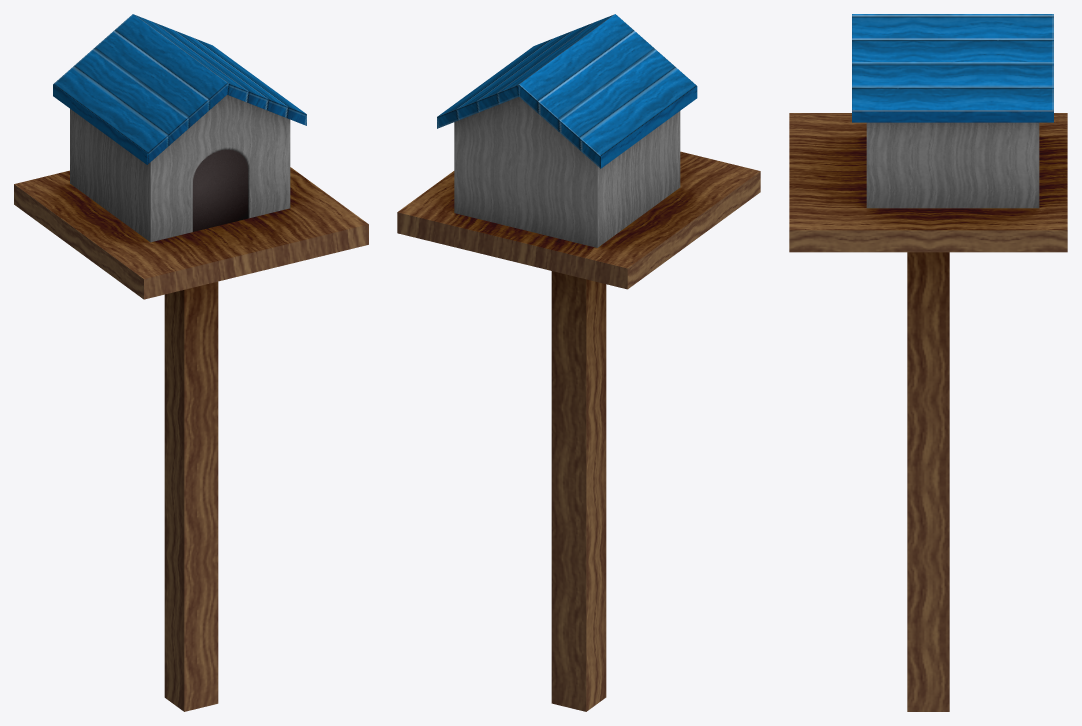
The model's file is birds_house.fbx.
3 renders of one model, left to right at view 1: azimuth 30°, elevation 25°; view 2: azimuth 150°, elevation 25°; view 3: azimuth 270°, elevation 25°, orthographic. The views are drawn at different scales.
Visible parts, largest first — view 1: birds_house_geo; view 2: birds_house_geo; view 3: birds_house_geo.
Boxes of the visible parts, x1,y1,x2,y2 form: birds_house_geo: [14, 14, 368, 711]; birds_house_geo: [397, 14, 760, 711]; birds_house_geo: [789, 14, 1067, 711].
Bounding box in the file's own units: 0.0153 × 0.0419 × 0.0153.
